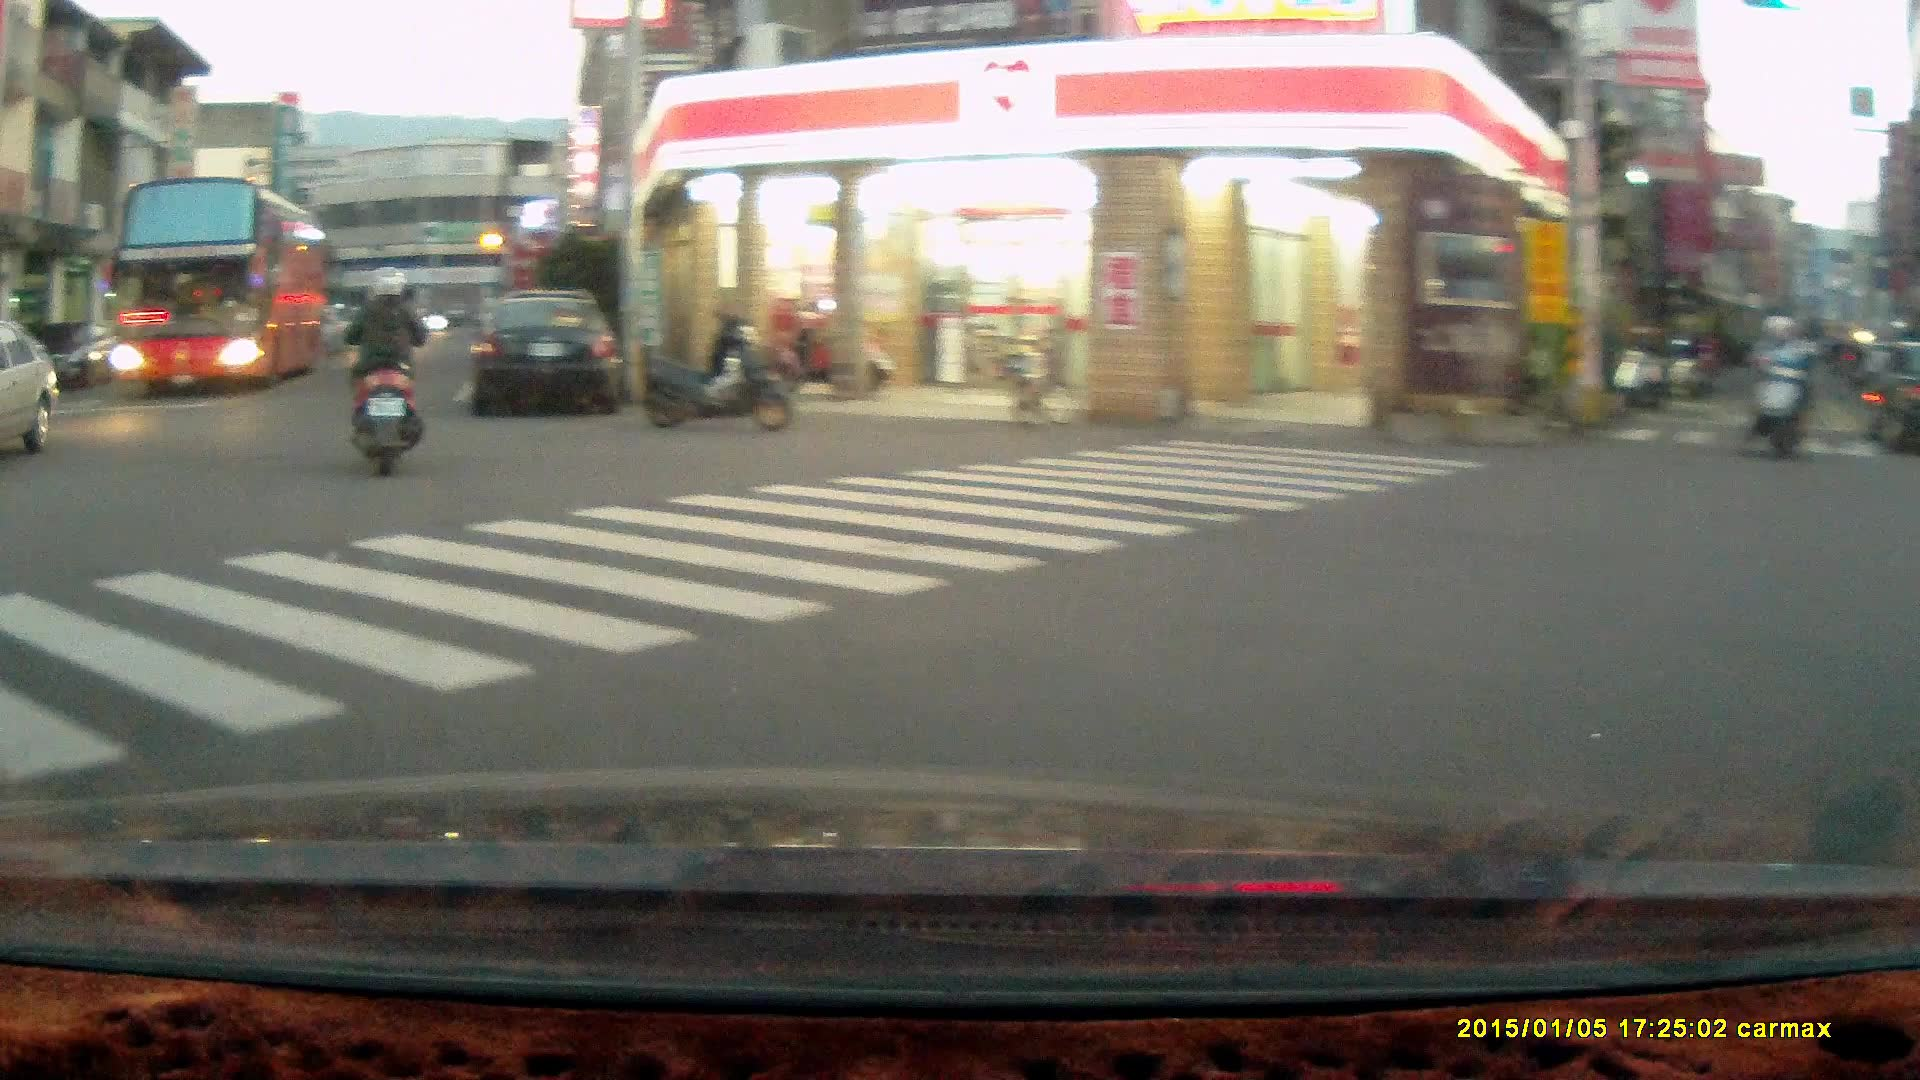rider: (340, 261, 435, 476), (1741, 310, 1812, 463)
vehicle: (113, 174, 337, 392), (468, 290, 626, 414), (1864, 331, 1920, 455)
